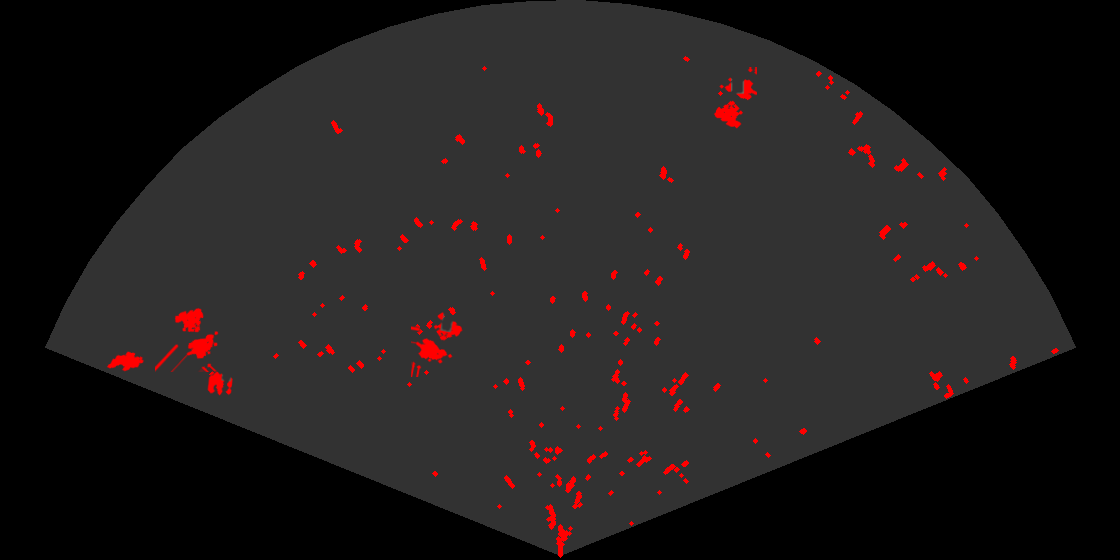AUV: (105, 350, 146, 373)
ball: (206, 370, 234, 397)
cage: (155, 306, 220, 372), (411, 310, 464, 377), (712, 67, 757, 130)
